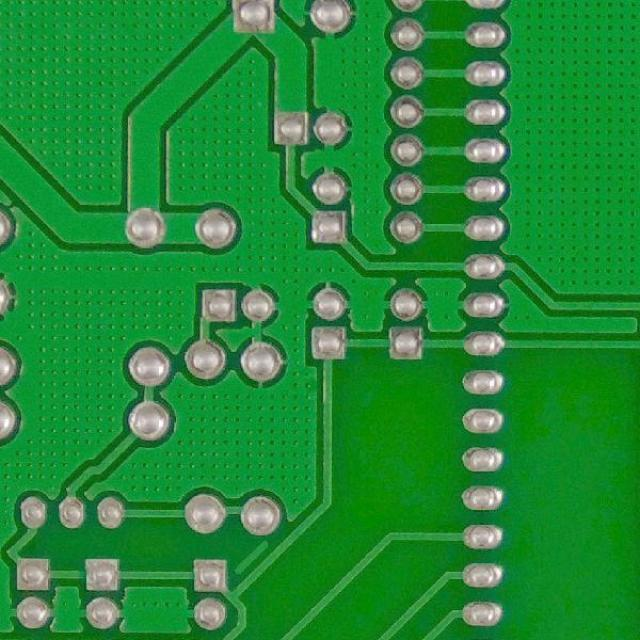Spurious_Cooper: (232, 537, 272, 577)
